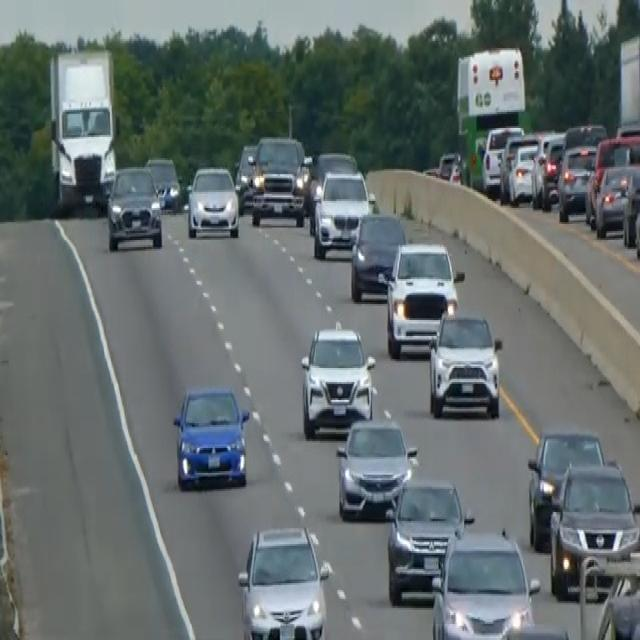car: (548, 459, 639, 601), (430, 526, 540, 638), (385, 474, 473, 604), (236, 523, 329, 638), (526, 425, 605, 549), (384, 240, 463, 357), (299, 323, 376, 438), (335, 414, 417, 519), (172, 384, 250, 491), (312, 167, 373, 258), (250, 133, 308, 226), (349, 210, 406, 302), (105, 164, 163, 250), (305, 148, 357, 230), (593, 548, 639, 638), (186, 164, 240, 238), (594, 162, 639, 238), (557, 140, 597, 220), (481, 122, 523, 194), (499, 135, 540, 206), (531, 132, 565, 208), (144, 154, 181, 212), (234, 142, 257, 212), (492, 619, 575, 638), (310, 148, 357, 180), (621, 164, 639, 247), (436, 150, 462, 182), (634, 176, 639, 267)
jeep: (426, 308, 503, 420)
lorry: (47, 46, 118, 212)
